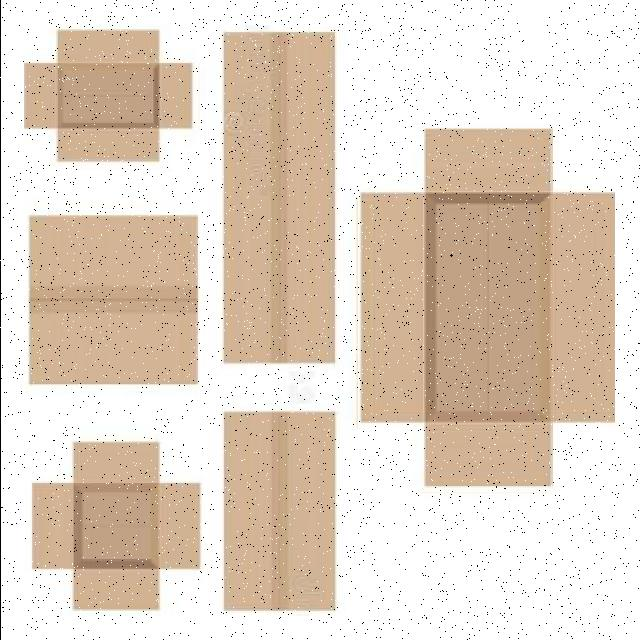defect: (357, 128, 614, 492), (25, 436, 203, 616), (23, 28, 197, 166)
normal: (220, 24, 337, 370), (23, 212, 203, 391), (222, 404, 340, 616)
